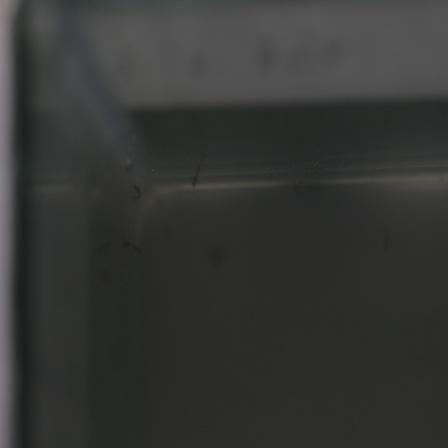Jentik-Nyamuk: (186, 143, 213, 190)
